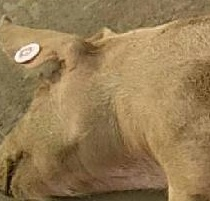text: (3, 30, 49, 74)
